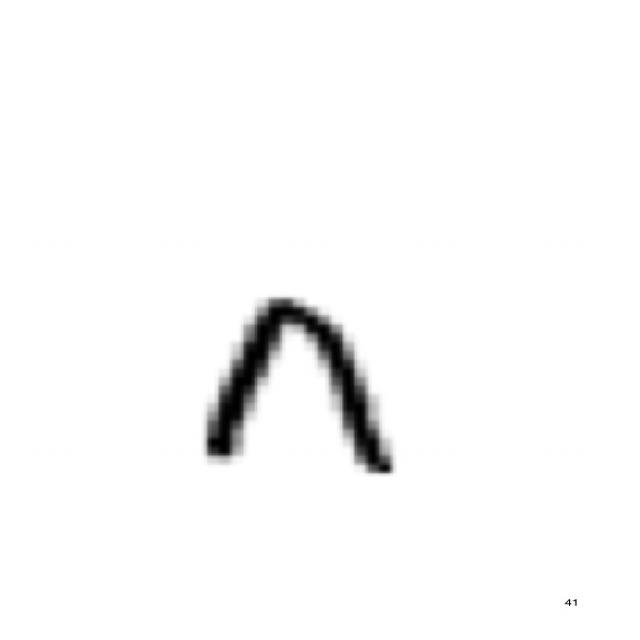8 -eight-: (183, 286, 422, 492)
